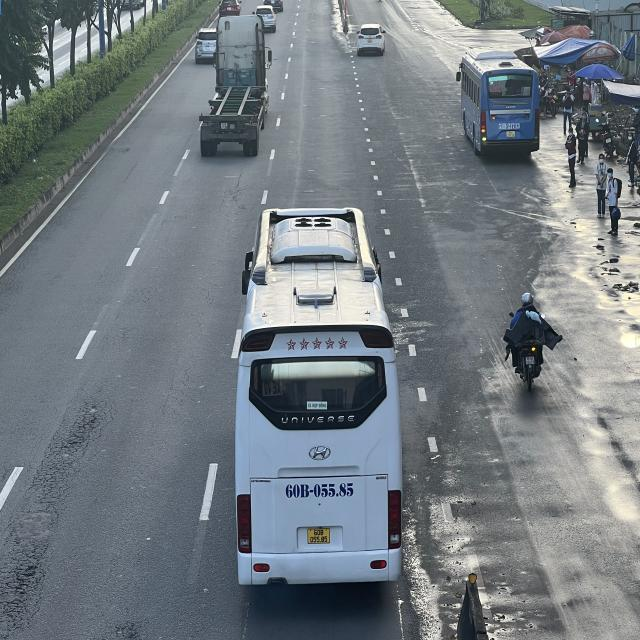car: (358, 22, 387, 56)
coach: (232, 205, 398, 591), (456, 55, 540, 158)
container: (199, 14, 271, 154)
